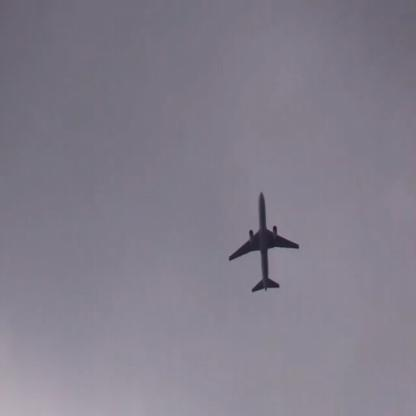CIV_Plane: (229, 192, 301, 291)
